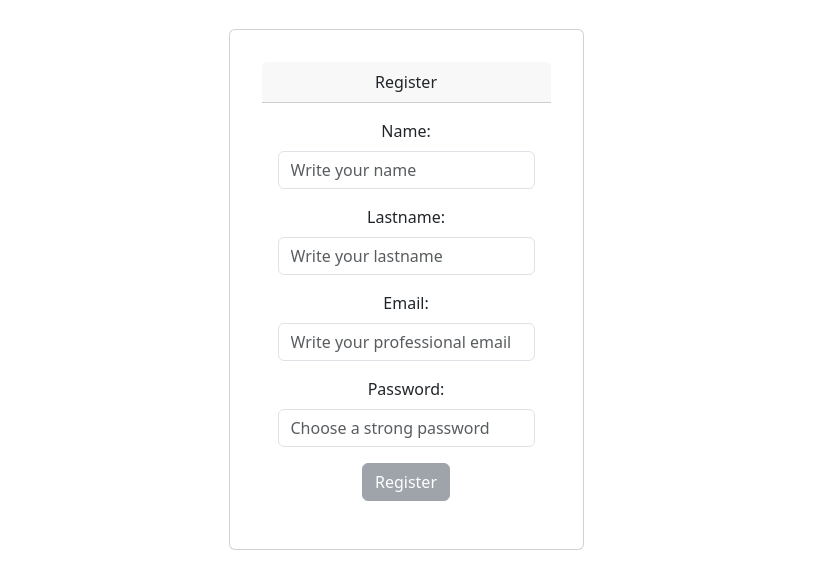
Test: Register Page › Error Messages › Password input errors if it is not strong like 1234
Type "1234" into the password field with test id "password-input" at (407, 428), box [278,409,535,447]
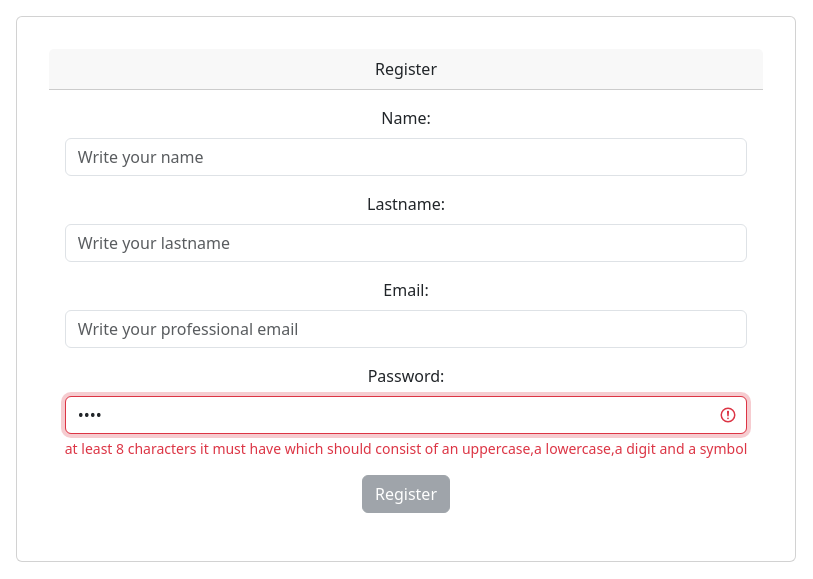
Check: the number of elements with test id "error-message" is 1, box [65,438,748,459]
Check: the text with test id "error-message" shows "at least 8 characters it must have which should consist of an uppercase,a lowercase,a digit and a symbol", box [65,438,748,459]
